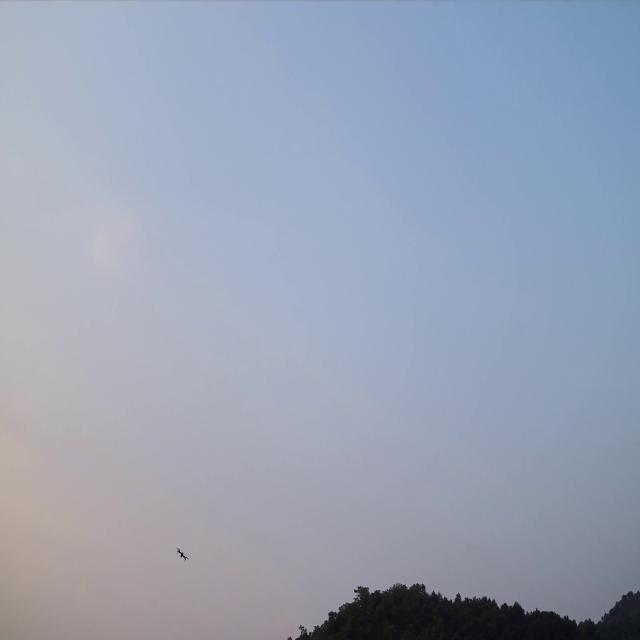UAV: (176, 546, 188, 562)
